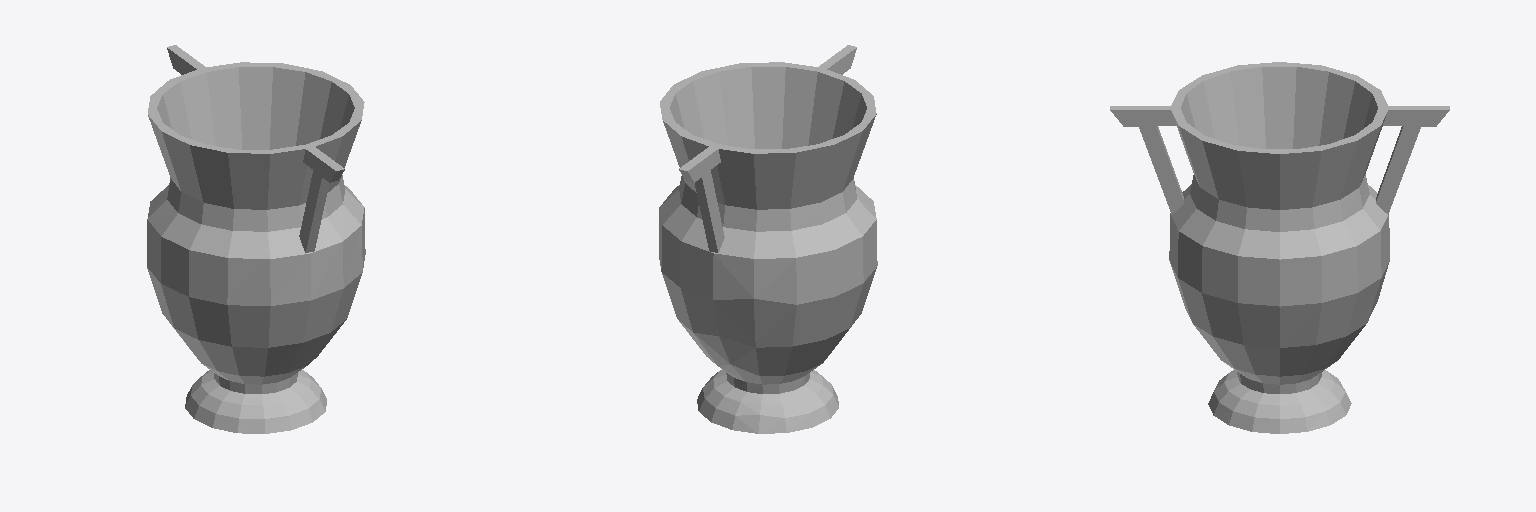
The model's file is vase.obj.
3 views of the same model, side by side, from view 1: azimuth 30°, elevation 25°; view 2: azimuth 150°, elevation 25°; view 3: azimuth 270°, elevation 25° (orthographic).
Parts seen in each view (by area): view 1: vase1; view 2: vase1; view 3: vase1.
Part boxes in pixels (bbox=[...]): vase1: bbox=[147, 45, 365, 433]; vase1: bbox=[659, 45, 877, 433]; vase1: bbox=[1110, 62, 1449, 433].
Size of the model in its own units: 72.9 by 108 by 112.